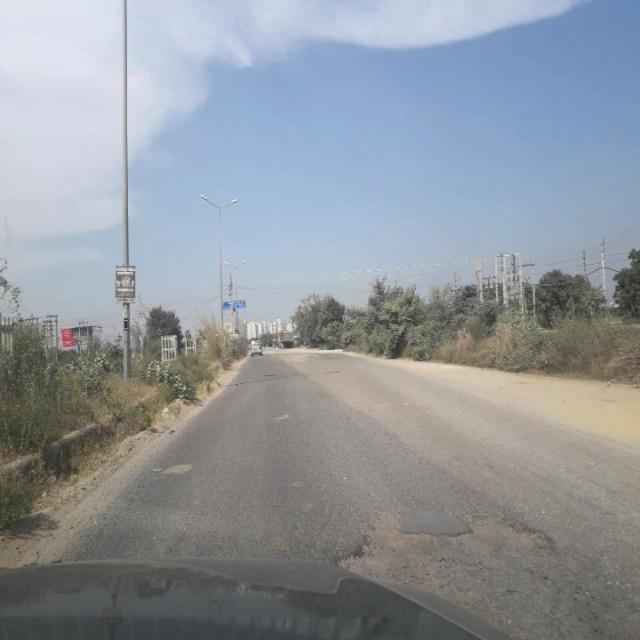pothole: (334, 488, 620, 604)
